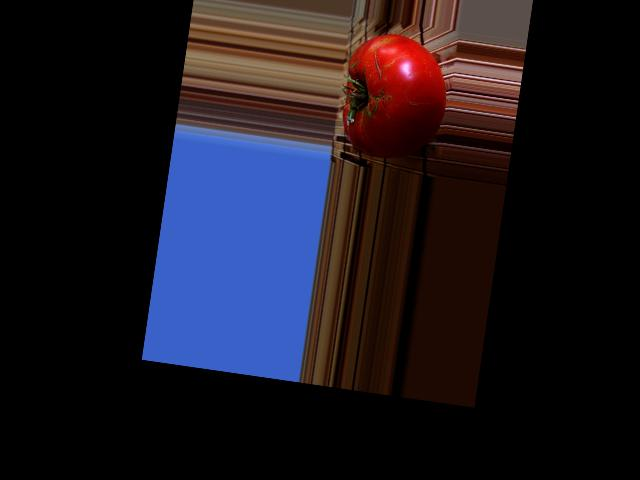tomato: (336, 29, 453, 165)
